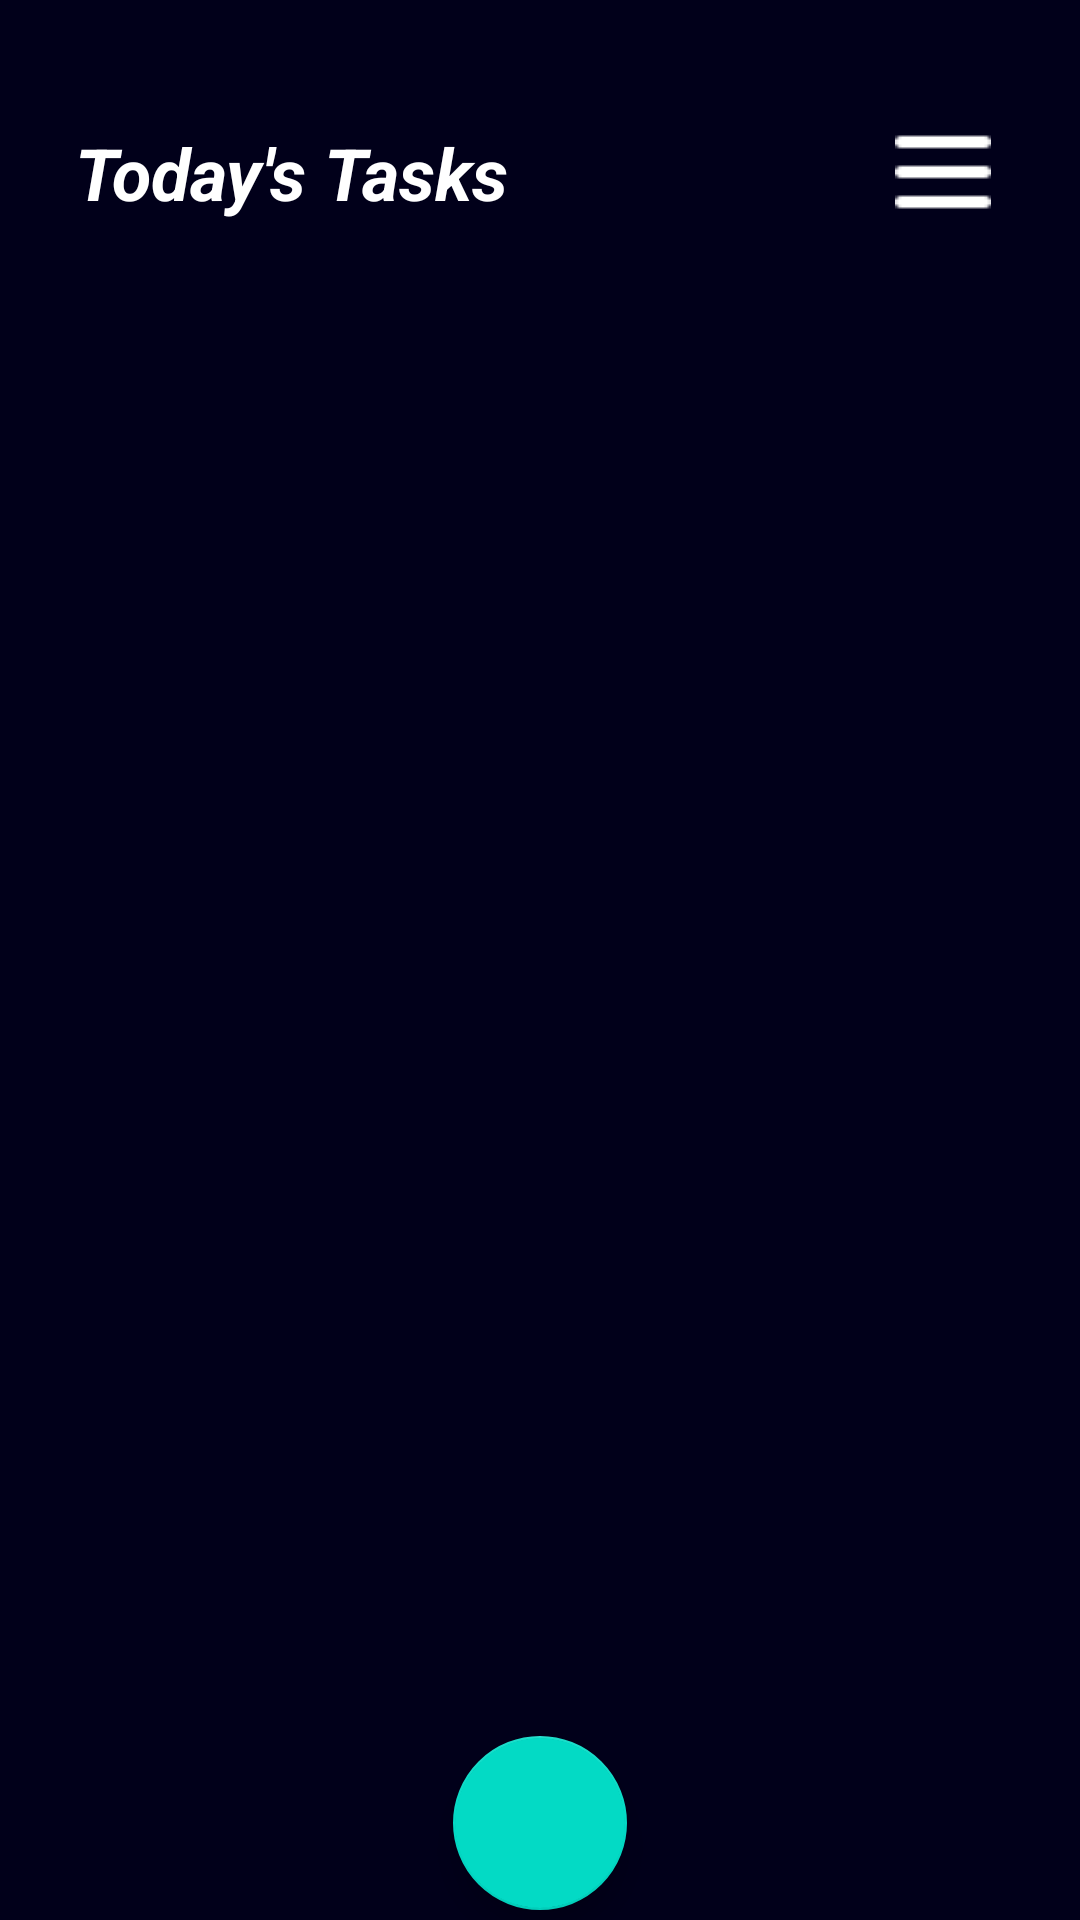

Named icons in this screenshot (1080 x 1920) and their centers, [x,y]:
Button that gives access to other lists: [943,172]
